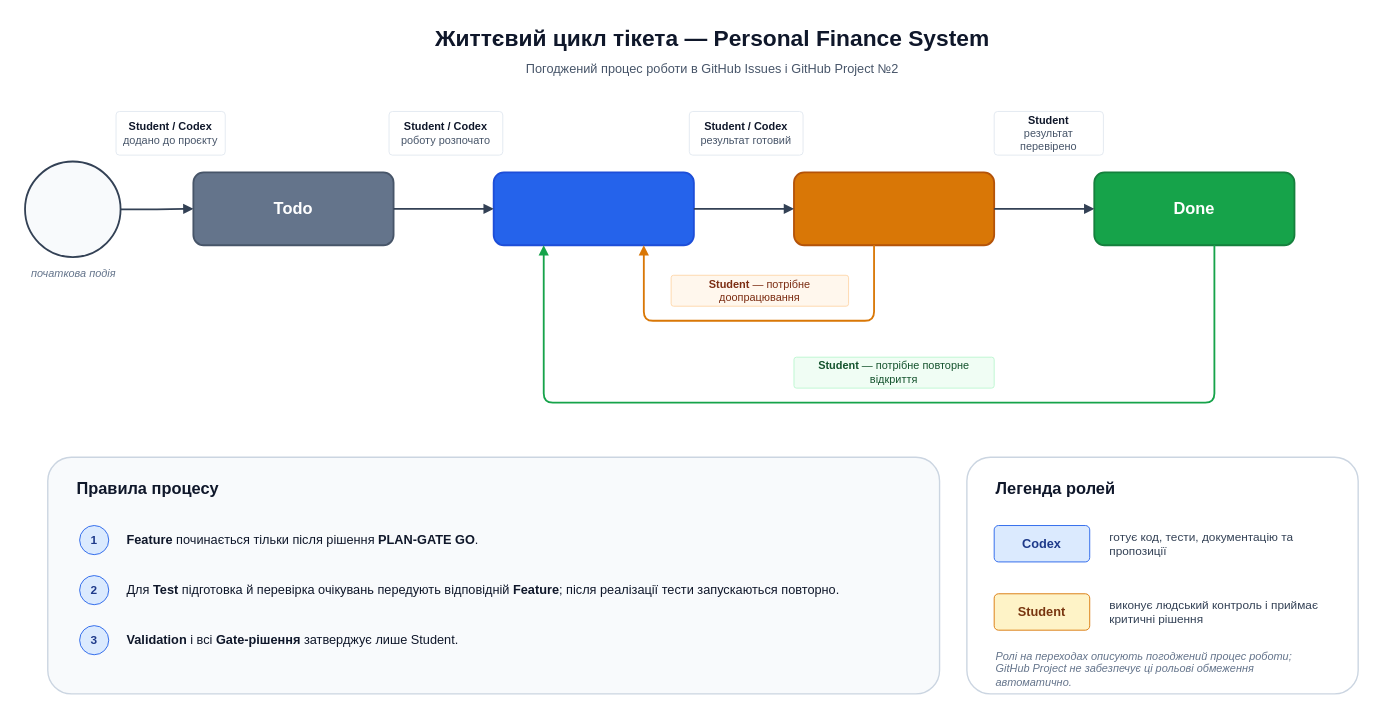
This 1374x710 diagram has some shape labels left out. Here are the shapes that lost their labels. From the top down, the centre of each, then its label:
At (72,209): "Issue створено".
At (593,208): "In Progress".
At (894,208): "In Review".
